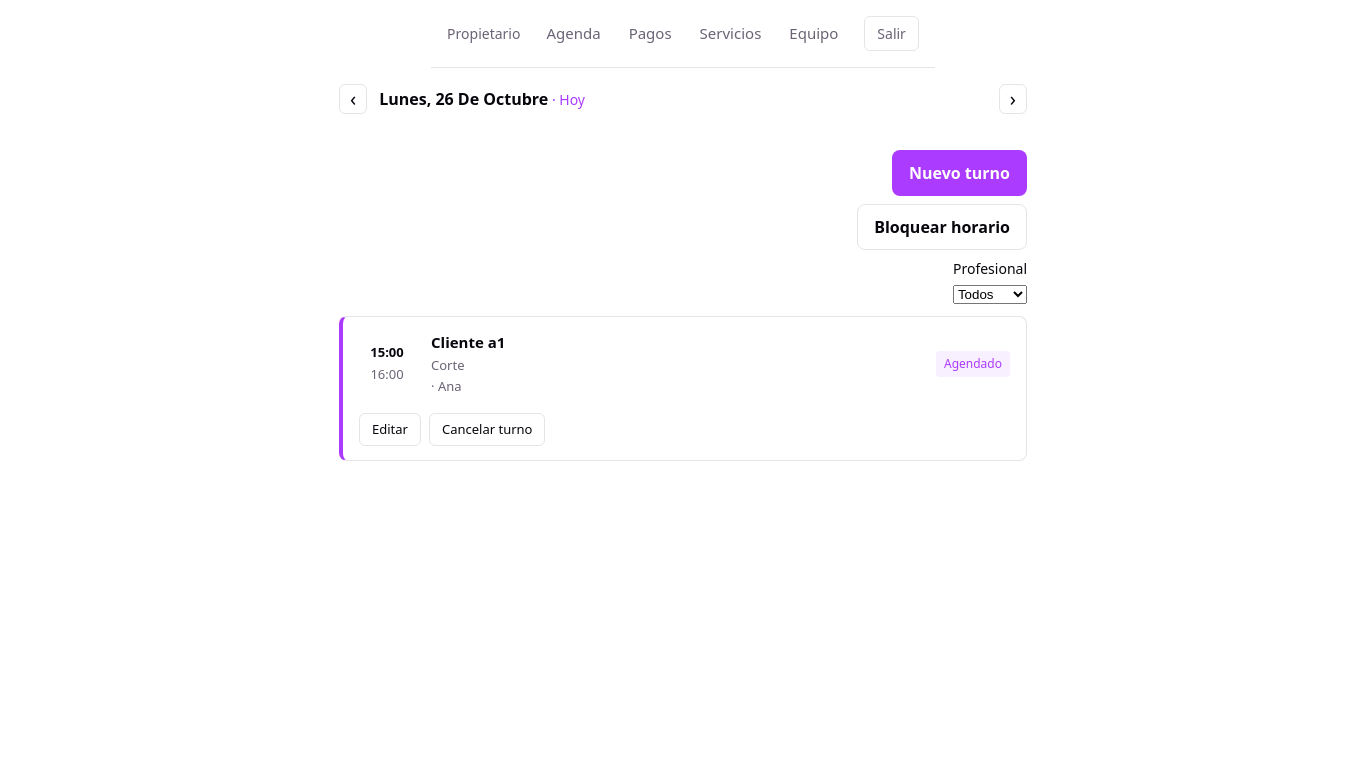
Test: RF-13: cancelar un turno pide confirmación y actualiza la fila
Click the button "Cancelar turno" at x=487, y=429, box [429, 412, 545, 446]
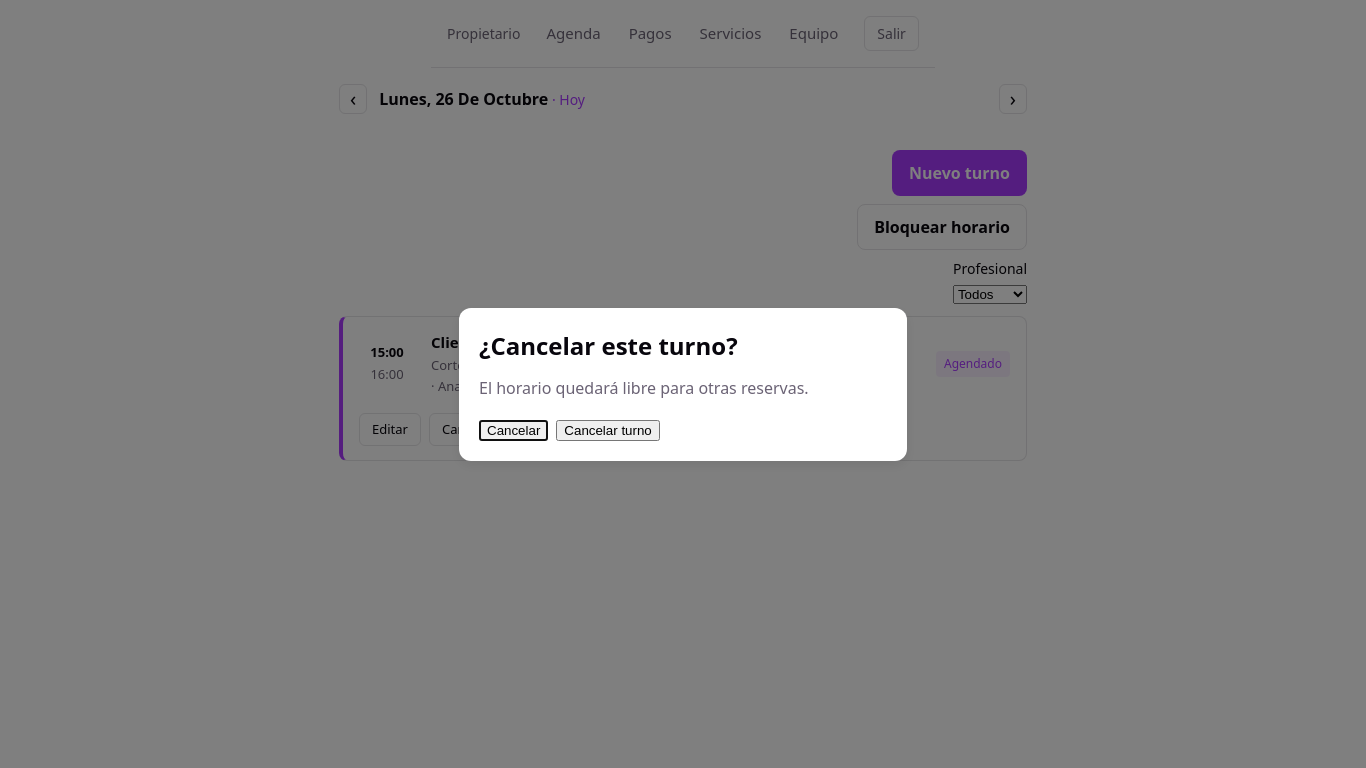
Click the button "Cancelar turno" at x=608, y=430, box [556, 420, 660, 440]
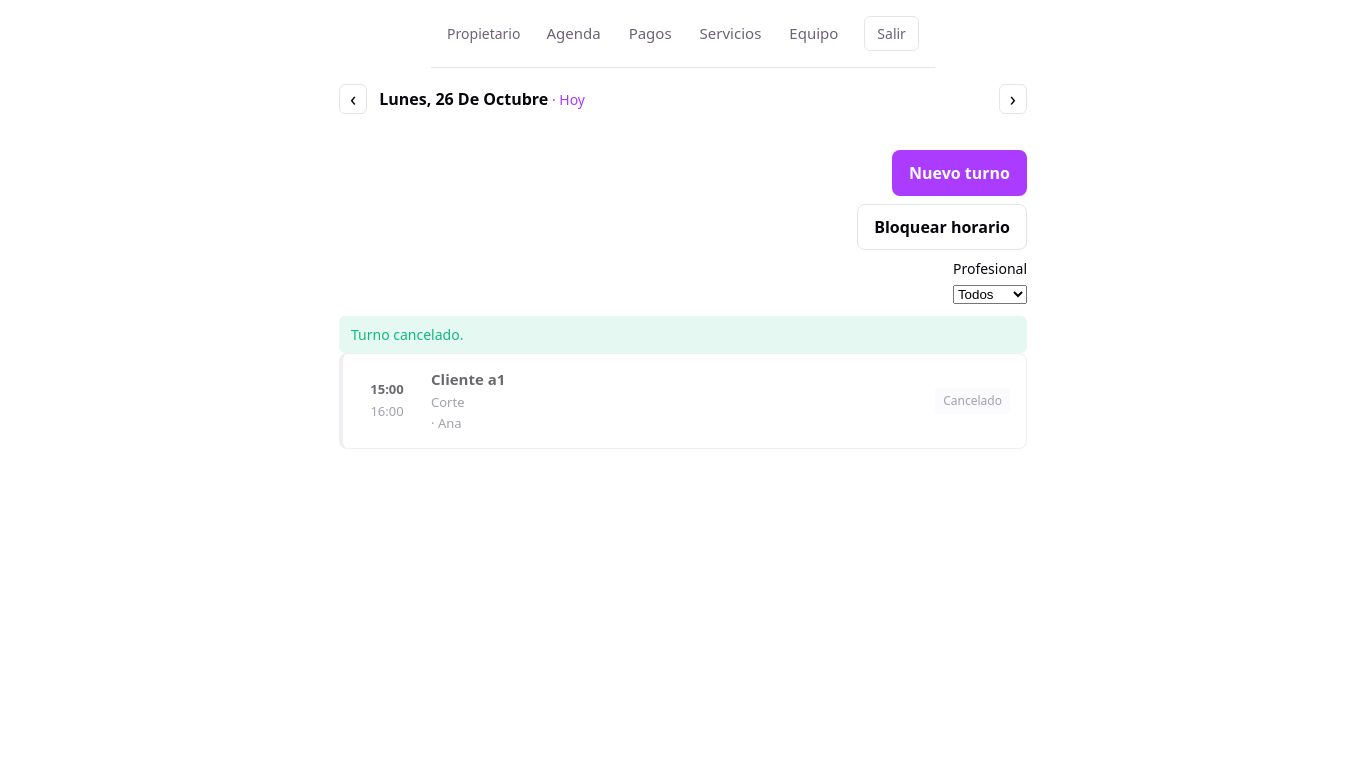
expect the text "Cliente a1" is shown: met, box [431, 369, 505, 389]
expect the text "Cancelado" is shown: met, box [935, 388, 1010, 414]
expect the message reads "Turno cancelado.": met, box [351, 325, 463, 344]
